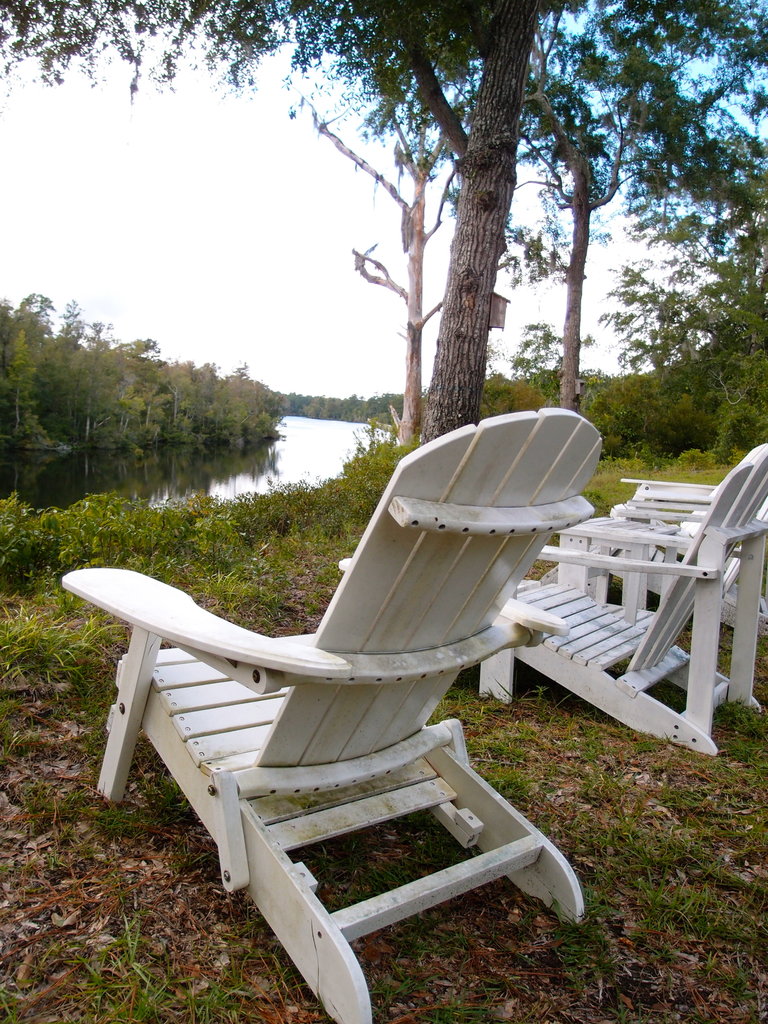Tree: (0, 0, 768, 453), (0, 293, 287, 490)
